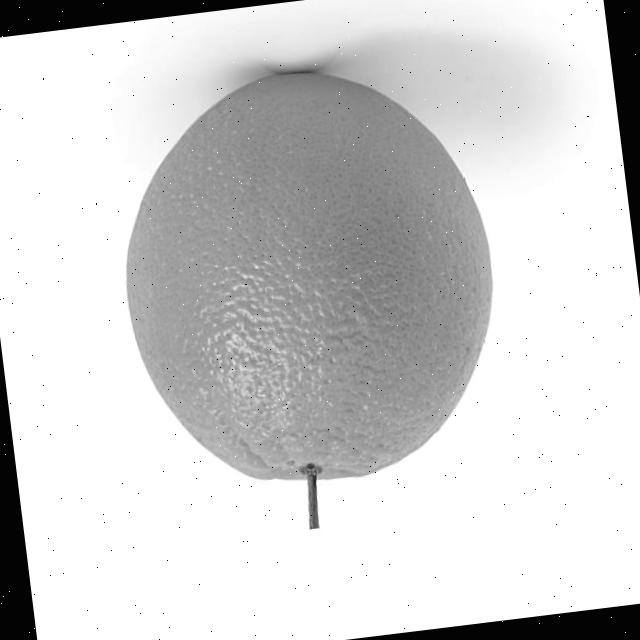Ripe: (94, 47, 520, 514)
